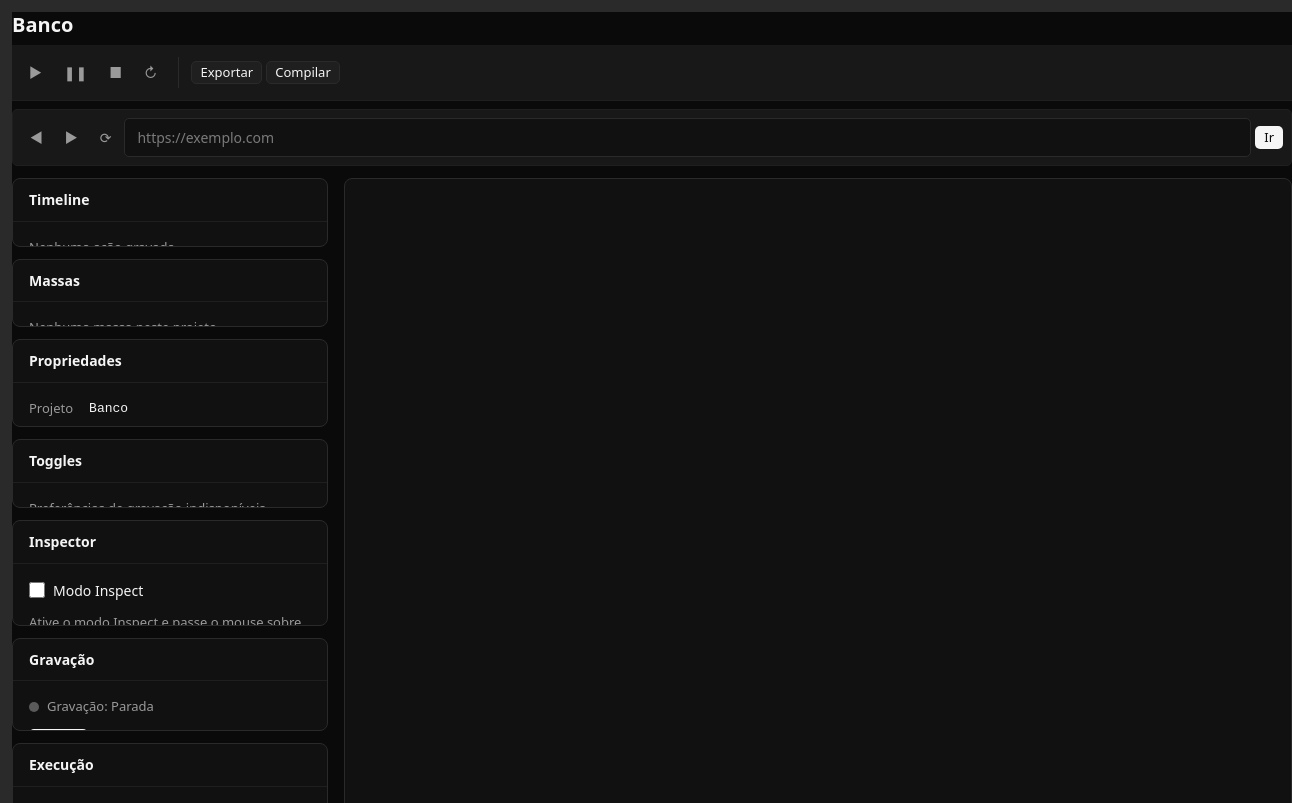
Test: AutomationView (PRD §9, §15) › warns when exporting without an active case
Click the button "Exportar": [227, 72] box [192,61,262,84]
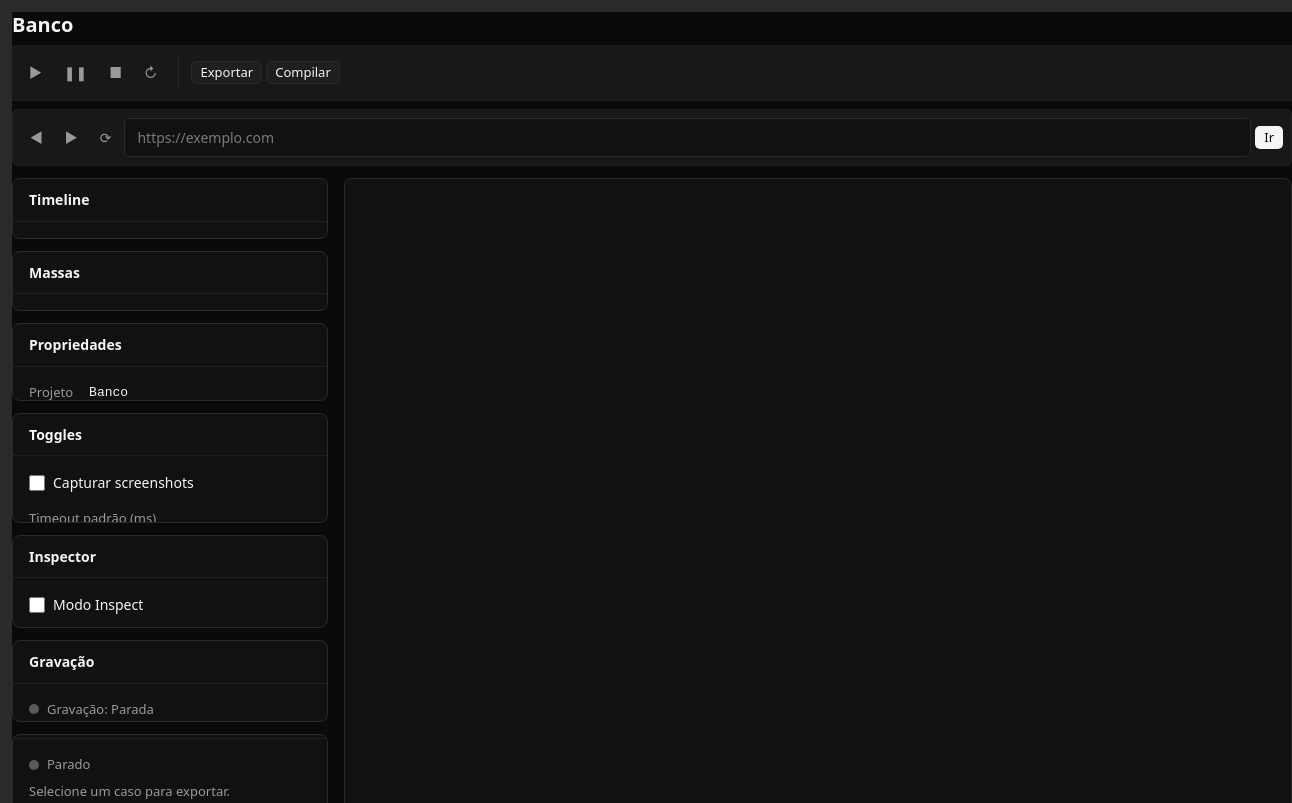
Check: the text named "Status da exportação" shows "Selecione um caso", box [29,782,230,800]
